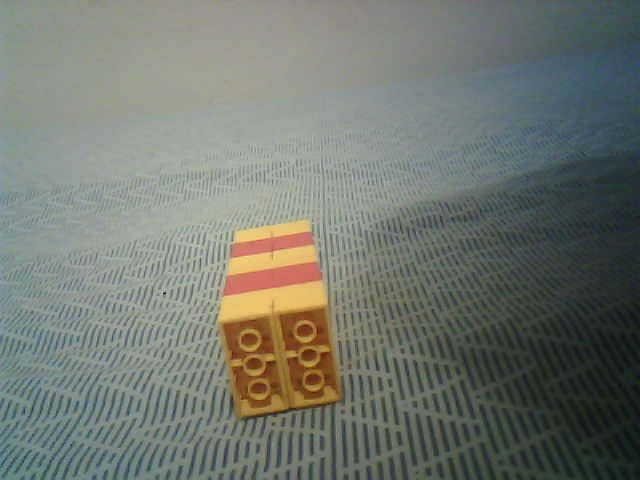lego: (216, 217, 344, 420)
